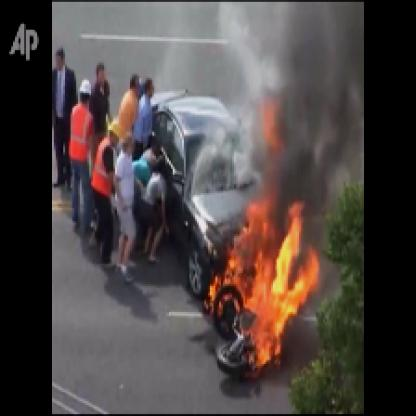Fire: (202, 180, 325, 379)
Smoke: (271, 2, 359, 210)
